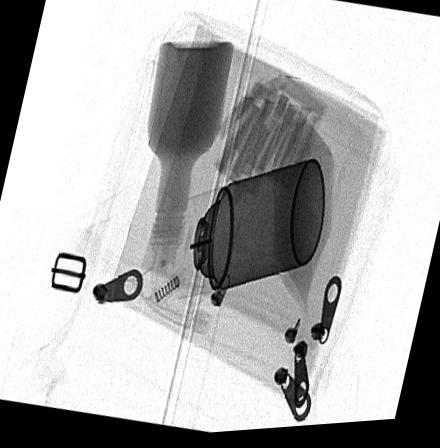Sprayer: (171, 162, 324, 303)
